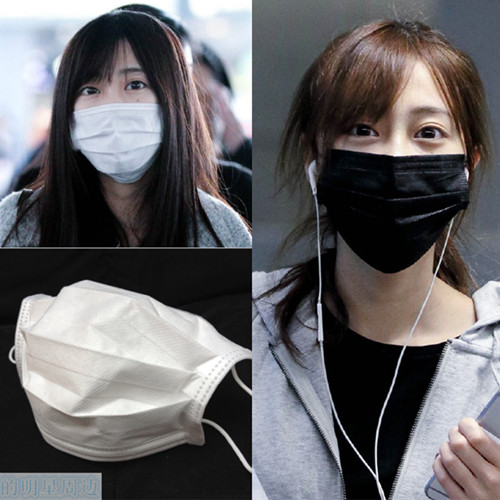face_mask: (330, 57, 465, 254), (72, 34, 163, 178)
